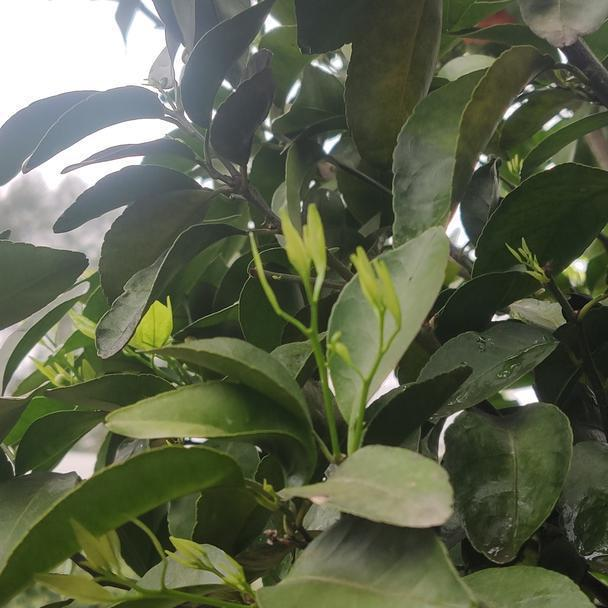shoot: (250, 213, 342, 337), (355, 260, 408, 359), (167, 532, 226, 582)
